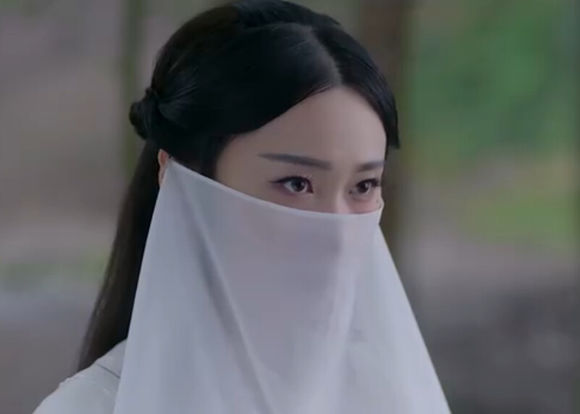face_mask: (216, 97, 385, 315)
